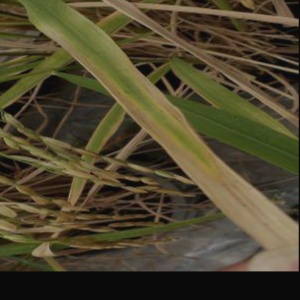Leaf_Blast: (90, 36, 182, 149)
